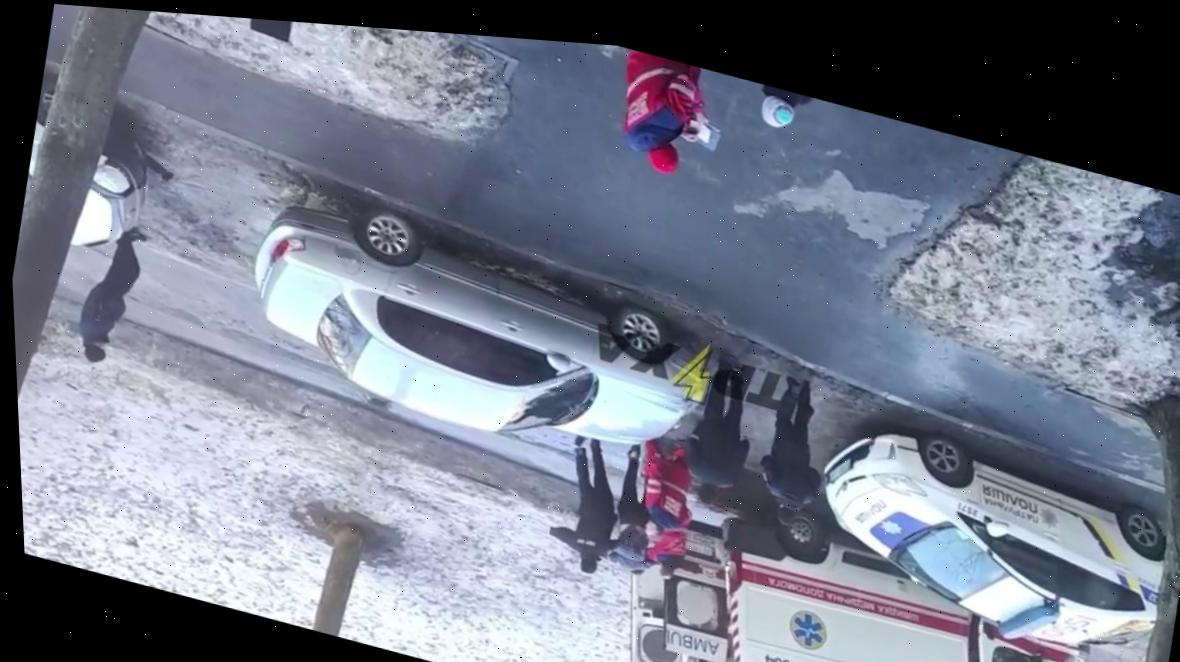car: (228, 171, 724, 489), (797, 403, 1180, 662)
person: (606, 46, 734, 189), (671, 346, 767, 514), (743, 368, 840, 533), (536, 428, 634, 582), (67, 216, 155, 374), (600, 444, 675, 581), (626, 427, 707, 550), (730, 76, 822, 139), (635, 509, 693, 585)
